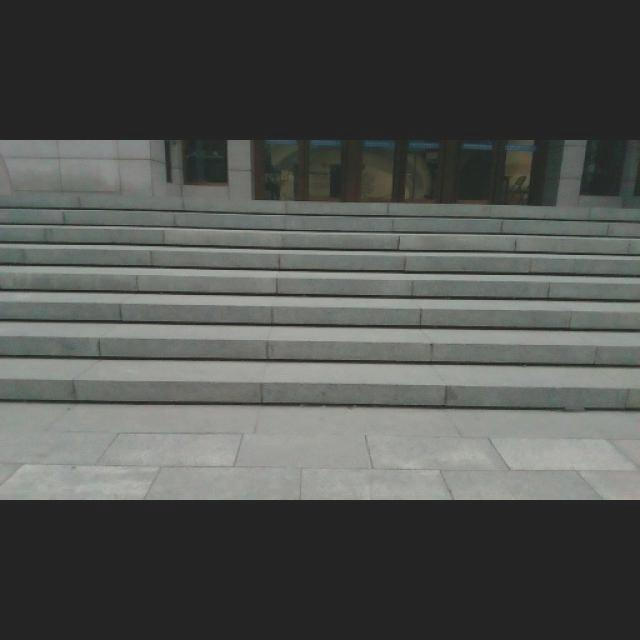stair: (0, 199, 630, 411)
